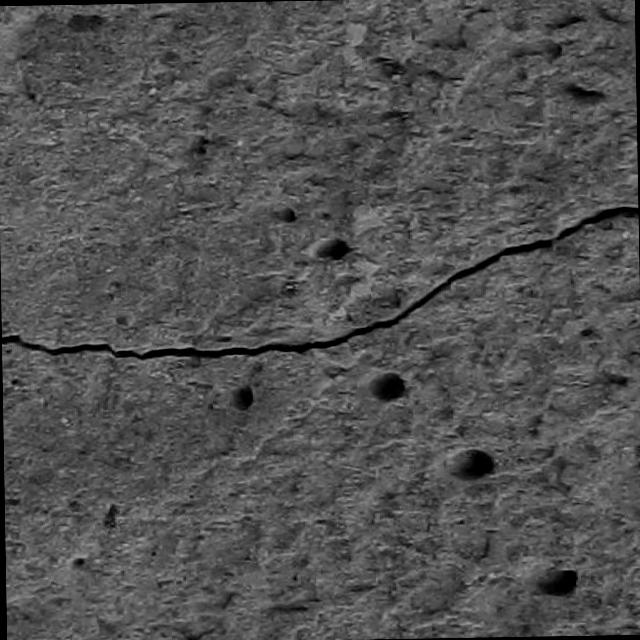crack: (2, 204, 636, 362)
